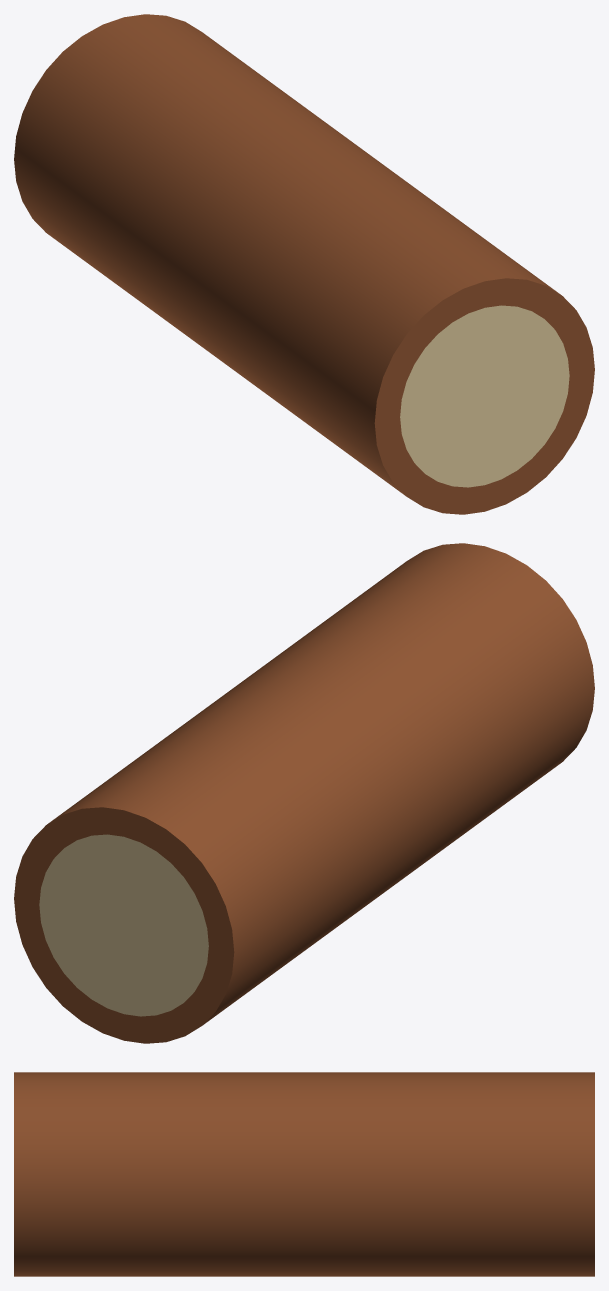
The picture shows the model from 3 angles, top to bottom: view 1: azimuth 30°, elevation 25°; view 2: azimuth 150°, elevation 25°; view 3: azimuth 270°, elevation 25°; orthographic projection. The views are drawn at different scales.
Visible parts, largest first — view 1: Cylinder; view 2: Cylinder; view 3: Cylinder.
Part boxes in pixels (bbox=[...]): Cylinder: bbox=[14, 14, 594, 514]; Cylinder: bbox=[14, 543, 594, 1043]; Cylinder: bbox=[14, 1072, 594, 1276].
Bounding box in the file's own units: 86.42 × 86.42 × 245.
